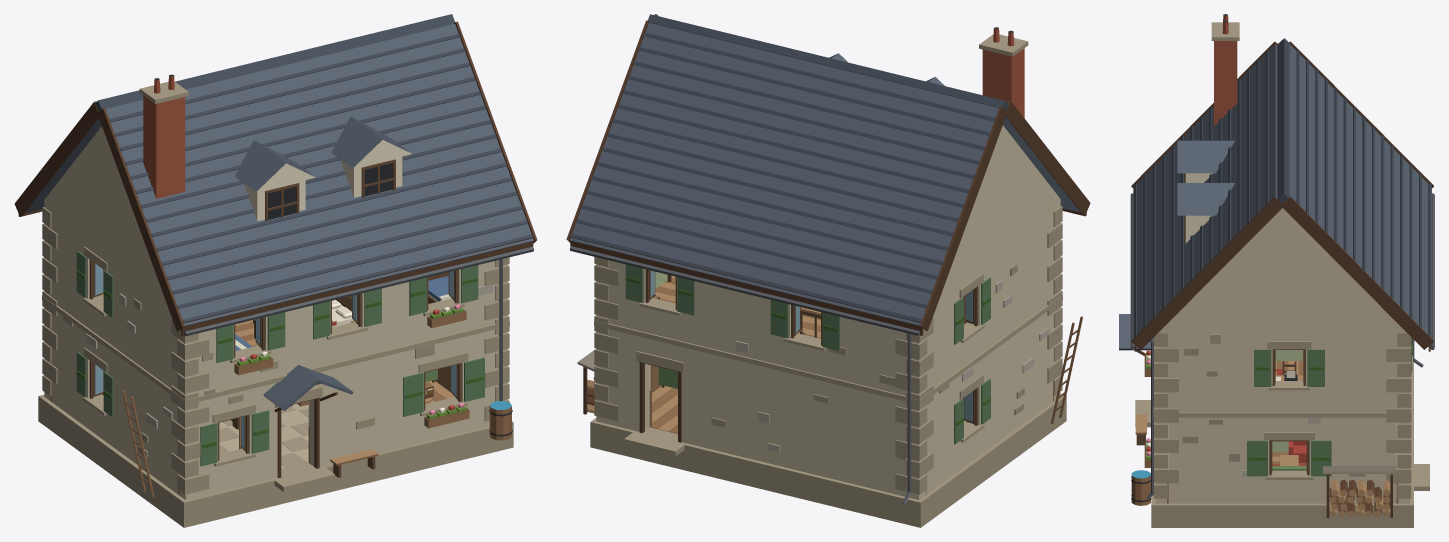
Rendered from farmhouse.glb.
The picture shows the model from 3 angles, left to right: view 1: azimuth 30°, elevation 25°; view 2: azimuth 150°, elevation 25°; view 3: azimuth 270°, elevation 25°; orthographic projection. The views are drawn at different scales.
Visible parts, largest first — view 1: LOD0; view 2: LOD0; view 3: LOD0.
Boxes of the visible parts, x1,y1,x2,y2 form: LOD0: (14,14,537,527); LOD0: (566,14,1090,527); LOD0: (1119,14,1434,527).
Size of what is drawn, in the model's own units: 12.01 by 12.32 by 9.42.
Materials: 1 (1 with a texture image).
